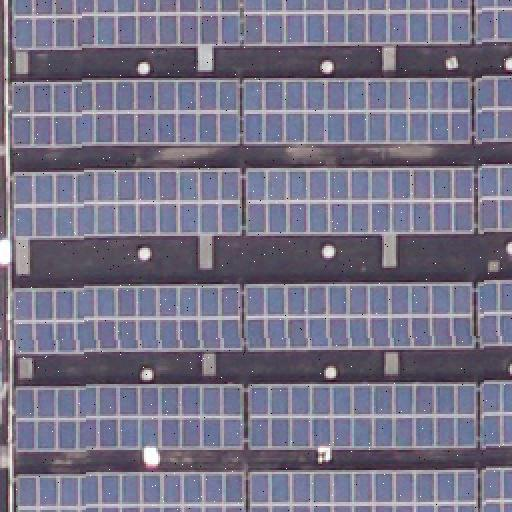solar-panel: (10, 286, 242, 354), (9, 170, 239, 238), (10, 78, 238, 146), (245, 283, 475, 349), (16, 387, 244, 453), (244, 167, 472, 233), (242, 79, 470, 145), (248, 384, 476, 448), (10, 0, 238, 48), (241, 1, 471, 47), (249, 472, 479, 512), (16, 472, 244, 512), (473, 75, 511, 141), (476, 167, 512, 233), (476, 282, 512, 346), (480, 382, 512, 446), (473, 0, 511, 40), (480, 472, 512, 512)
